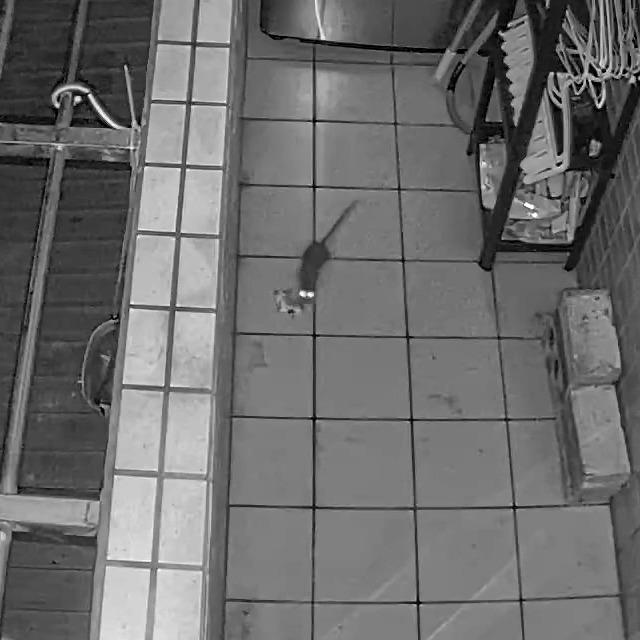rat: (296, 200, 362, 306)
